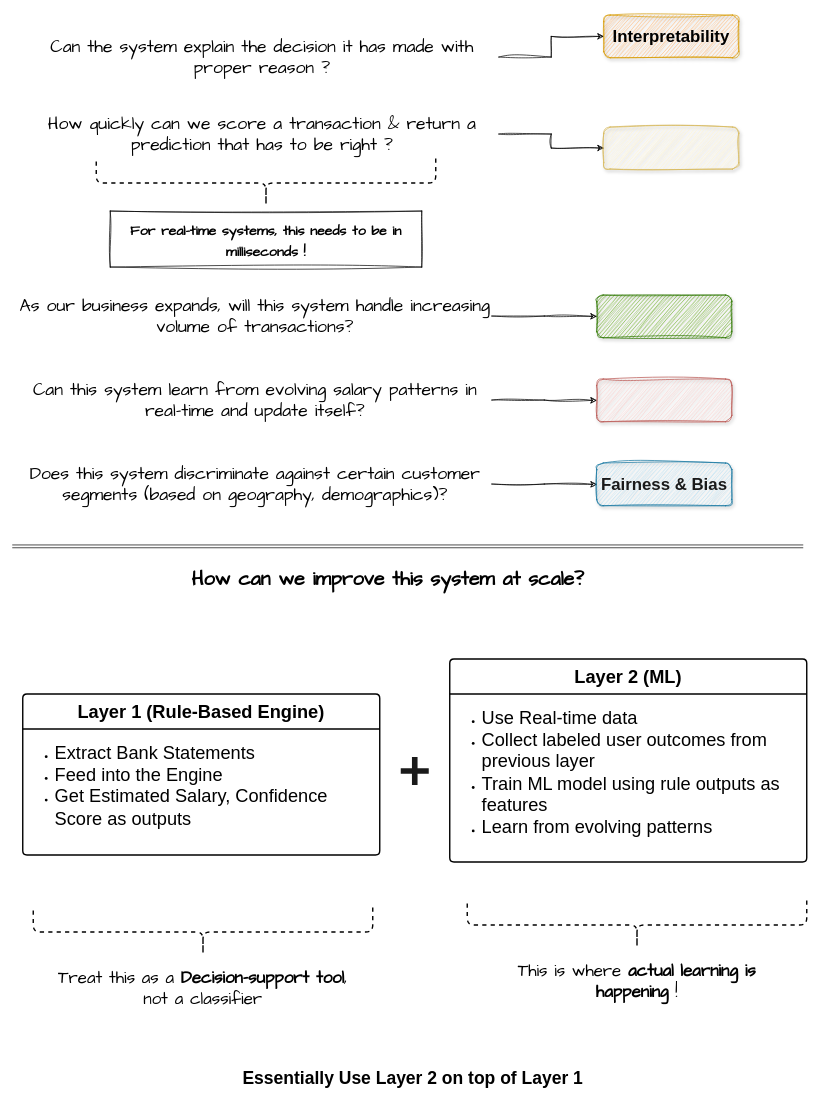
Image size: 820x1116. Some labels were removed from this diagram. The centre of each missing label's shape, as x and y in pixels:
Accuracy: (671,149)
Maintainability: (664,401)
Scalability: (664,317)
